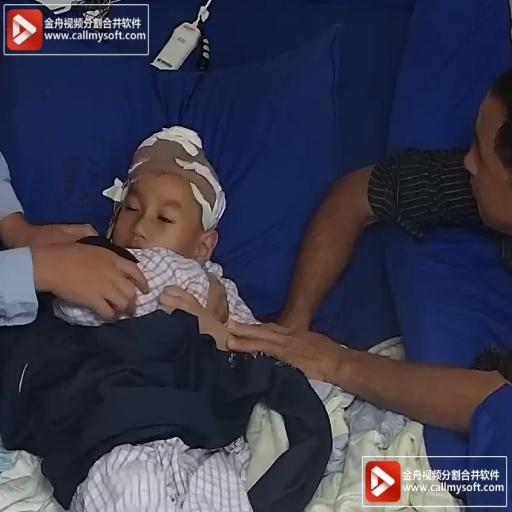Seizure: (105, 166, 220, 240)
